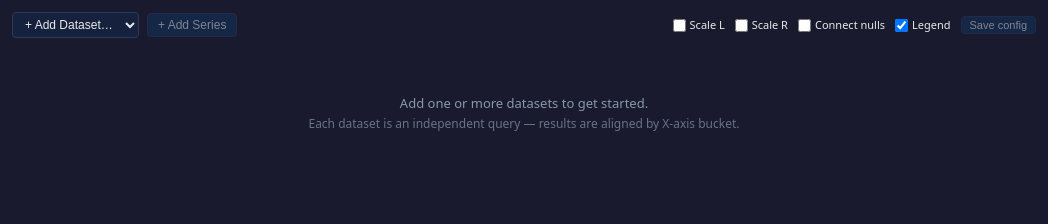
Test: MultiQueryChart — running a dataset › shows row count after a successful run
Select "Revenue Query" in the dropdown at (76, 25), box [12,12,139,38]
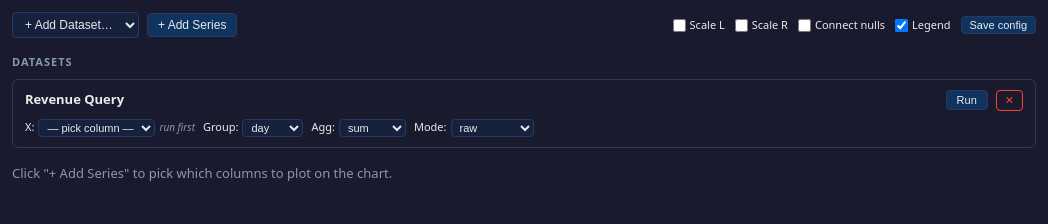
Click the button "Run".
click(967, 100)  # box [946,90,988,110]
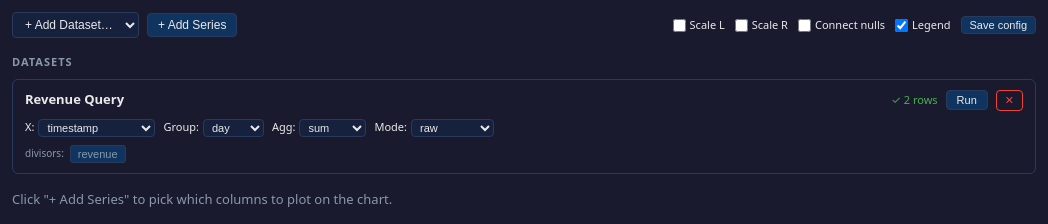
Expected: the text "✓ 2 rows" is shown, [891,92,938,108]
